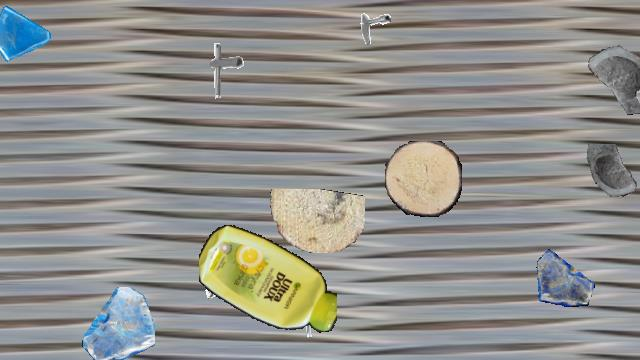glass: (82, 287, 154, 359), (578, 32, 640, 114), (583, 144, 640, 206), (0, 1, 53, 65), (536, 248, 594, 306), (634, 87, 640, 161)
metal: (192, 40, 252, 100), (199, 255, 245, 301), (291, 301, 335, 345), (349, 2, 391, 44)
plastic: (199, 221, 337, 337)
wood: (267, 189, 365, 253), (385, 141, 461, 217)
